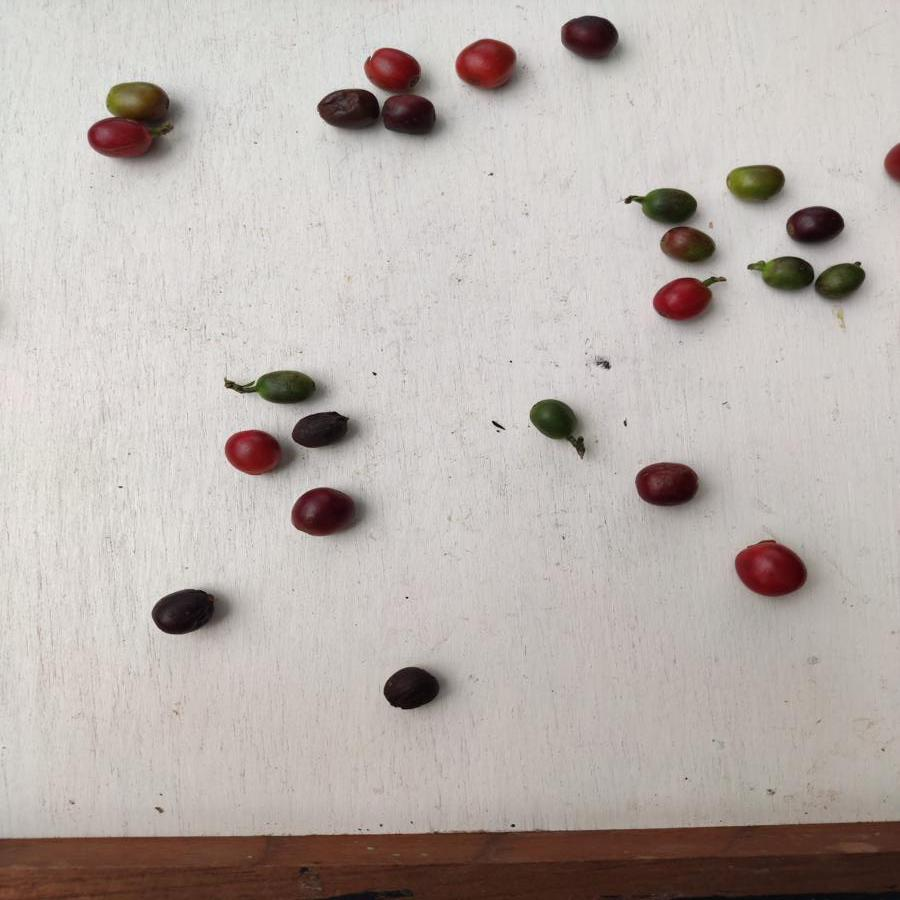Inmaduro: (251, 368, 317, 411), (632, 185, 698, 227), (526, 396, 583, 444), (757, 253, 815, 296), (816, 261, 866, 302)
Maduro: (729, 536, 809, 601), (446, 36, 517, 84), (649, 276, 718, 324), (82, 118, 155, 163), (359, 44, 426, 92), (225, 429, 284, 481)
Pinton: (102, 77, 170, 124), (720, 163, 784, 203), (656, 225, 720, 263)
Sobremaduro: (287, 487, 356, 542), (375, 661, 441, 715), (151, 585, 217, 636), (316, 86, 381, 136), (632, 457, 697, 506), (559, 12, 621, 62), (378, 92, 438, 140), (782, 204, 843, 247), (291, 408, 348, 450)
